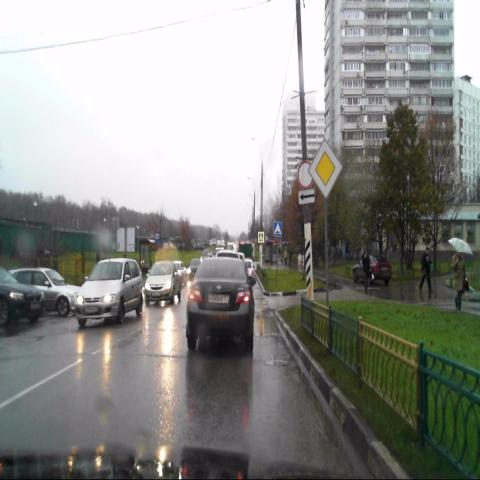3_2: (298, 162, 312, 188)
8_3_2: (298, 188, 315, 204)
